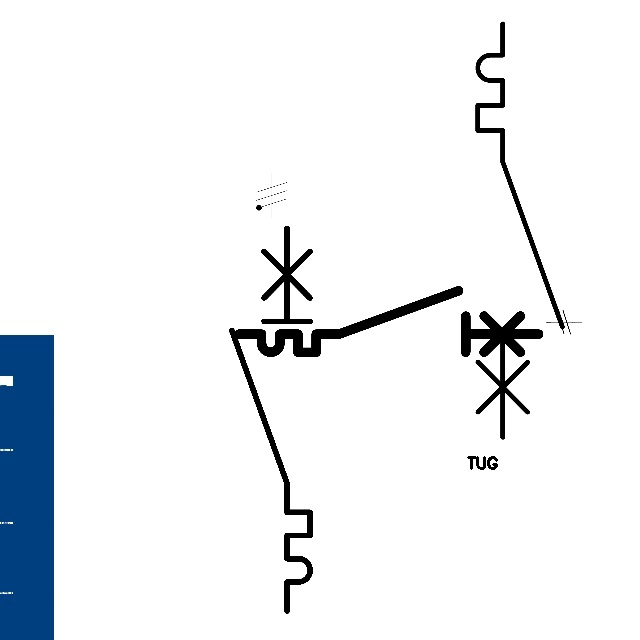interruptor_termomagnetico: (467, 13, 573, 448), (222, 218, 320, 620), (231, 283, 546, 360)
